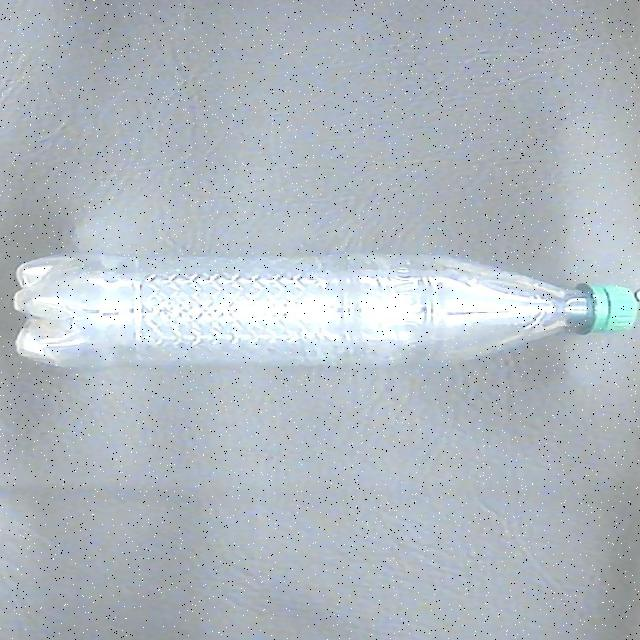plastic: (13, 250, 636, 374)
